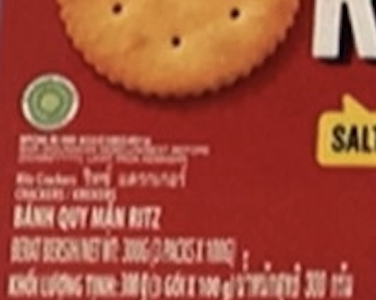halal: (32, 87, 71, 120)
